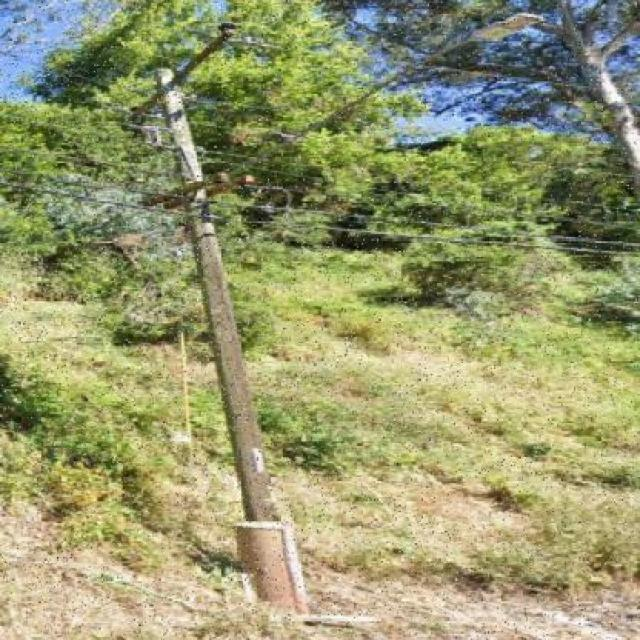pole: (82, 21, 353, 618)
